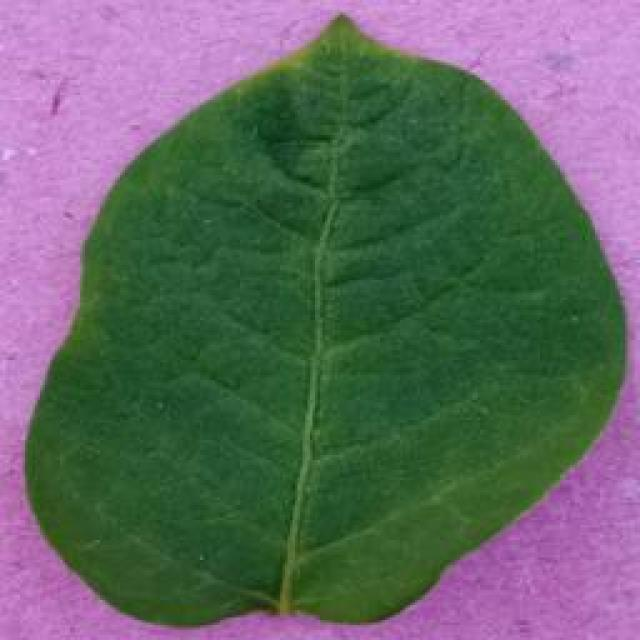Potato_Healthy: (24, 11, 620, 625)
